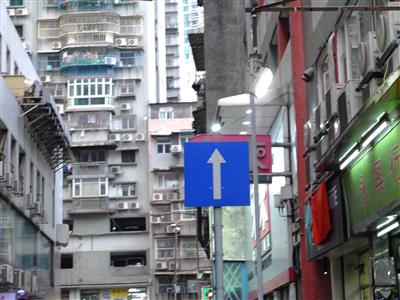oneway: (180, 138, 253, 208)
